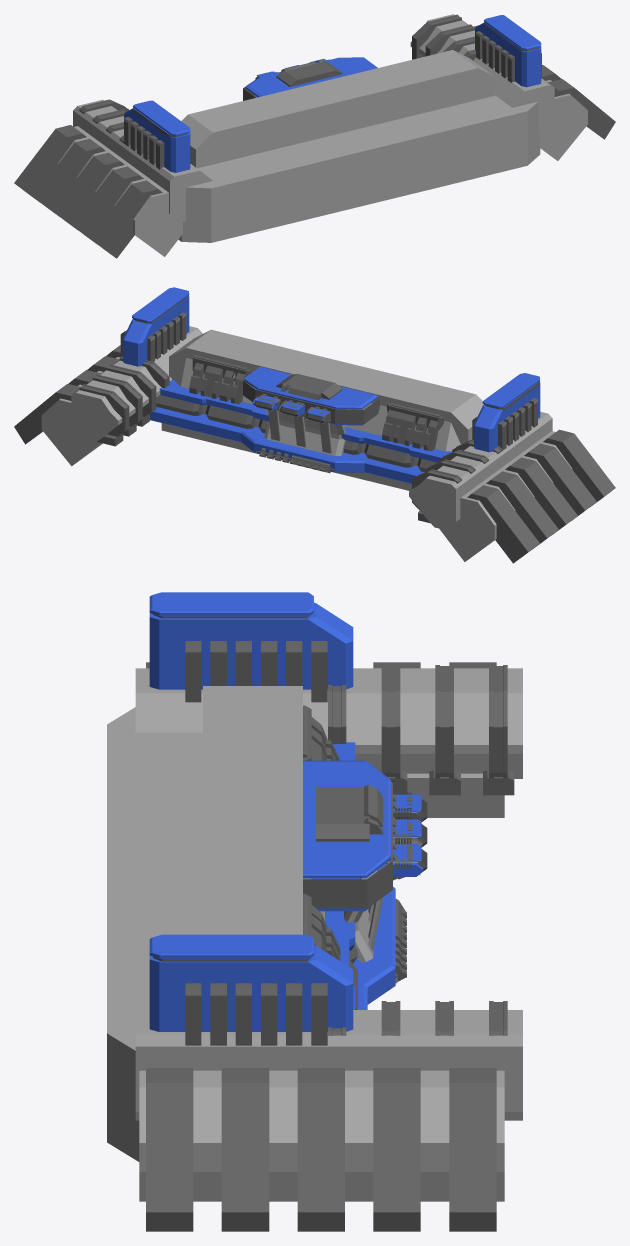
File: spaceport-transformed.glb
The picture shows the model from 3 angles, top to bottom: view 1: azimuth 30°, elevation 25°; view 2: azimuth 150°, elevation 25°; view 3: azimuth 270°, elevation 25°; orthographic projection. The views are drawn at different scales.
Parts seen in each view (by area): view 1: Spaceport 24_concrete 1_0, Spaceport 24_Mettalic composite_0, Spaceport 24_Blue composite _0; view 2: Spaceport 24_Mettalic composite_0, Spaceport 24_concrete 1_0, Spaceport 24_Blue composite _0; view 3: Spaceport 24_concrete 1_0, Spaceport 24_Mettalic composite_0, Spaceport 24_Blue composite _0.
Part boxes in pixels (x1,y1,x2,y2): Spaceport 24_concrete 1_0: (57, 14, 587, 256); Spaceport 24_Mettalic composite_0: (14, 14, 615, 258); Spaceport 24_Blue composite _0: (124, 15, 541, 172); Spaceport 24_Mettalic composite_0: (14, 296, 615, 563); Spaceport 24_concrete 1_0: (41, 326, 572, 561); Spaceport 24_Blue composite _0: (123, 287, 540, 483); Spaceport 24_concrete 1_0: (107, 668, 522, 1201); Spaceport 24_Mettalic composite_0: (146, 614, 514, 1231); Spaceport 24_Blue composite _0: (149, 592, 423, 1031).
Size of the model in its own units: 264 by 58.05 by 92.65.
